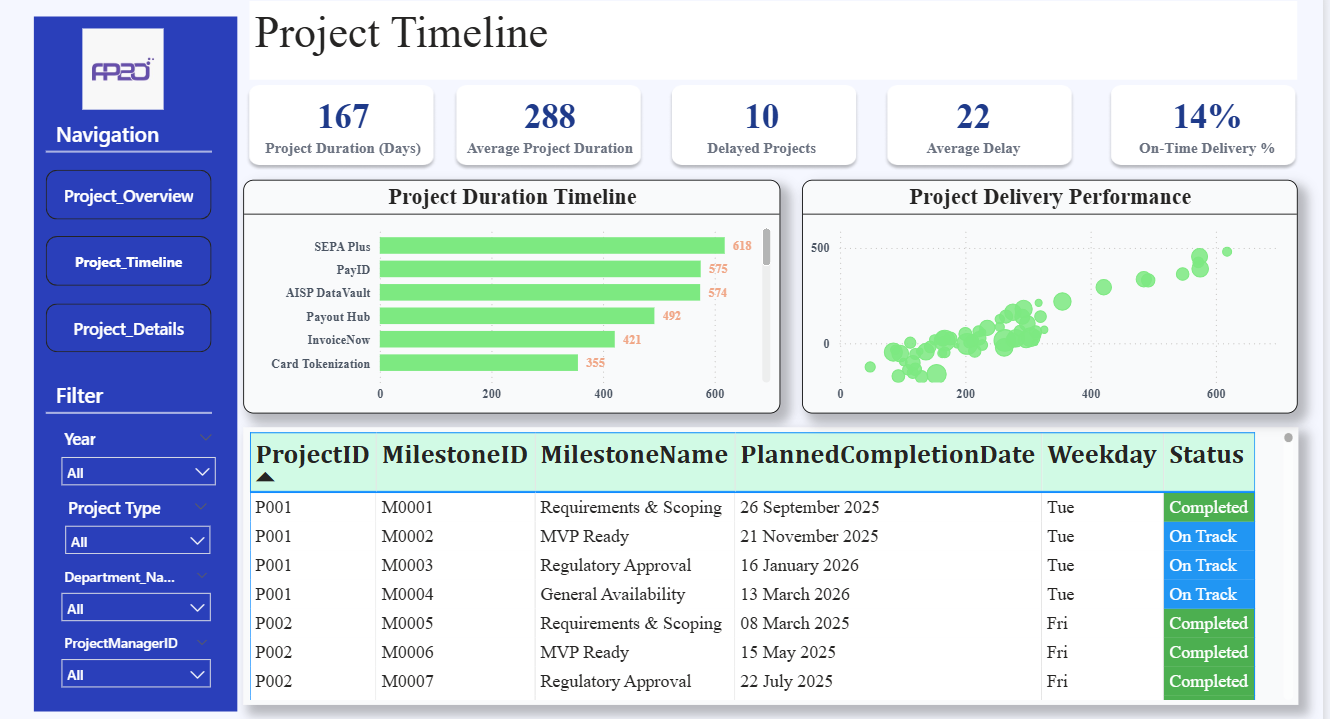

Layout of this report page (visuals, bound fields, positions):
{"tool":"powerbi","page":{"name":"Project_Timeline","canvas":[1280,720],"ordinal":1},"visuals":[{"type":"barChart","title":"Project Duration Timeline","fields":{"Category":["Projects.ProductName"],"Y":["Key_Measures.Project Duration (Days)"]},"box":[237.8,182.7,518.1,225.3],"z":0},{"type":"card","fields":{"Values":["Key_Measures.Average Project Duration"]},"box":[436.2,63.4,194.2,128.2],"z":1000},{"type":"card","fields":{"Values":["Key_Measures.Project Duration (Days)"]},"box":[247.3,63.9,173.7,127.9],"z":2000},{"type":"card","fields":{"Values":["Key_Measures.Delayed Projects"]},"box":[651.5,63.9,173.7,127.9],"z":3000},{"type":"card","fields":{"Values":["Key_Measures.On-Time Delivery %"]},"box":[1082.2,63.4,172.2,128.2],"z":4000},{"type":"card","fields":{"Values":["Key_Measures.Average Delay"]},"box":[857,63.4,172.2,128.2],"z":5000},{"type":"tableEx","fields":{"Values":["Milestones.ProjectID","Milestones.MilestoneID","Milestones.MilestoneName","Milestones.PlannedCompletionDate.Variation.Date Hierarchy.Year","Date Dim.Weekday","Milestones.Status"]},"box":[237.7,421,1018.2,267.8],"z":6000},{"type":"scatterChart","title":"Project Delivery Performance","fields":{"X":["Key_Measures.Project Duration (Days)"],"Y":["Key_Measures.Schedule Delay"],"Size":["Key_Measures.Total Actual Budget"],"Category":["Projects.ProjectID"]},"box":[777.2,182.7,478.1,225.3],"z":7000},{"type":"image","box":[0,31.4,243.7,88.1],"z":8000},{"type":"shape","title":"Navigation","box":[56.7,124.3,179.8,61.5],"z":9000},{"type":"shape","box":[47.1,96.5,160.5,117],"z":10000},{"type":"pageNavigator","box":[47.1,172.5,160.5,48.3],"z":11000},{"type":"pageNavigator","box":[47.1,236.5,160.5,48.3],"z":12000},{"type":"pageNavigator","box":[47.1,301.6,160.5,47.1],"z":13000},{"type":"shape","box":[47.1,348.7,160.5,117],"z":14000},{"type":"shape","title":"Filter","box":[56.7,376.4,177.3,44.6],"z":15000},{"type":"slicer","fields":{"Values":["Date Dim.Year"]},"box":[51.9,416.2,168.9,66.4],"z":16000},{"type":"slicer","fields":{"Values":["Projects.ProductName"]},"box":[55.5,482.6,160.5,68.8],"z":17000},{"type":"slicer","fields":{"Values":["Departments.Department_Name"]},"box":[52.3,550.8,164.1,64.4],"z":18000},{"type":"slicer","fields":{"Values":["Projects.ProjectManagerID"]},"box":[52.3,615.2,164.1,63.2],"z":19000},{"type":"textbox","box":[243.7,9.7,1011,76],"z":20000}]}

Visuals, with their boxes on the page's 1280x720 design canvas (x1, y1, x2, y2). These are canvas units, not pixel positions in the 1330x719 screenshot, which may show the page scaled, cropped or inside an application window:
"Project Duration Timeline" barChart: left=238, top=183, right=756, bottom=408
card - Key_Measures.Average Project Duration: left=436, top=63, right=630, bottom=192
card - Key_Measures.Project Duration (Days): left=247, top=64, right=421, bottom=192
card - Key_Measures.Delayed Projects: left=652, top=64, right=825, bottom=192
card - Key_Measures.On-Time Delivery %: left=1082, top=63, right=1254, bottom=192
card - Key_Measures.Average Delay: left=857, top=63, right=1029, bottom=192
tableEx - Milestones.ProjectID x Milestones.MilestoneID: left=238, top=421, right=1256, bottom=689
"Project Delivery Performance" scatterChart: left=777, top=183, right=1255, bottom=408
image: left=0, top=31, right=244, bottom=120
"Navigation" shape: left=57, top=124, right=236, bottom=186
shape: left=47, top=96, right=208, bottom=214
pageNavigator: left=47, top=172, right=208, bottom=221
pageNavigator: left=47, top=236, right=208, bottom=285
pageNavigator: left=47, top=302, right=208, bottom=349
shape: left=47, top=349, right=208, bottom=466
"Filter" shape: left=57, top=376, right=234, bottom=421
slicer - Date Dim.Year: left=52, top=416, right=221, bottom=483
slicer - Projects.ProductName: left=56, top=483, right=216, bottom=551
slicer - Departments.Department_Name: left=52, top=551, right=216, bottom=615
slicer - Projects.ProjectManagerID: left=52, top=615, right=216, bottom=678
textbox: left=244, top=10, right=1255, bottom=86
